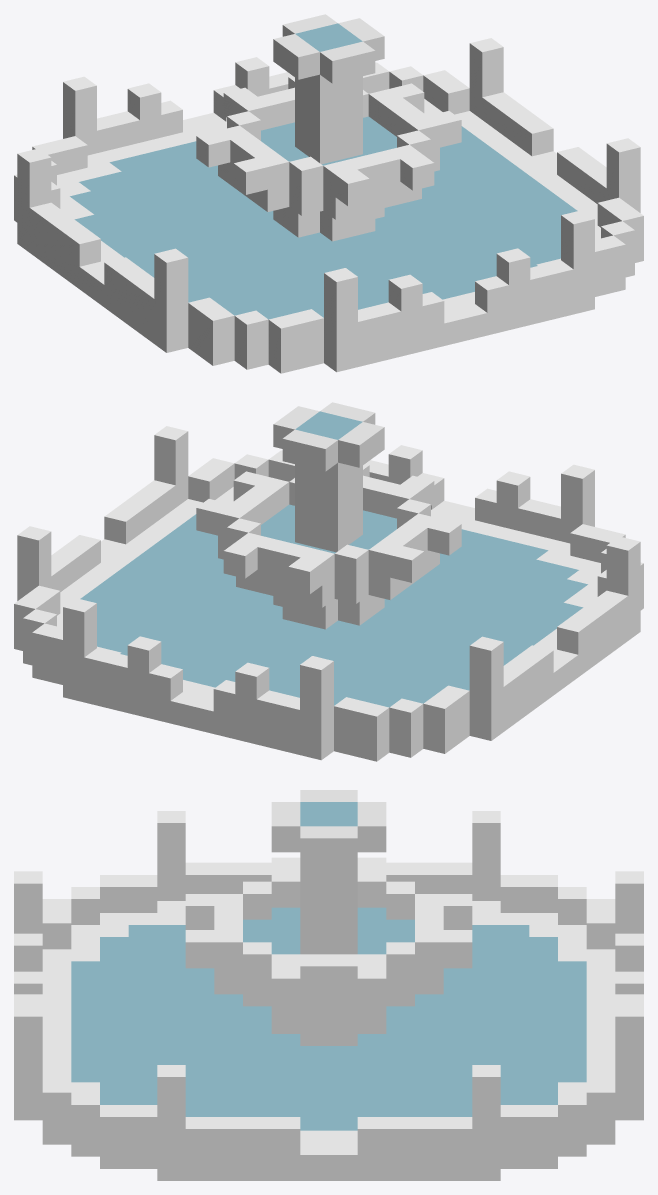
The model's file is fountain2.glb.
3 views of the same model, one above another, from view 1: azimuth 30°, elevation 25°; view 2: azimuth 150°, elevation 25°; view 3: azimuth 270°, elevation 25° (orthographic). The views are drawn at different scales.
Parts seen in each view (by area): view 1: fountain2; view 2: fountain2; view 3: fountain2.
Part boxes in pixels (x1,y1,x2,y2): fountain2: (14,14,643,373); fountain2: (14,402,643,761); fountain2: (14,790,643,1180).
Size of the model in its own units: 2.2 by 0.9 by 2.2.
1 material, 1 textured.
